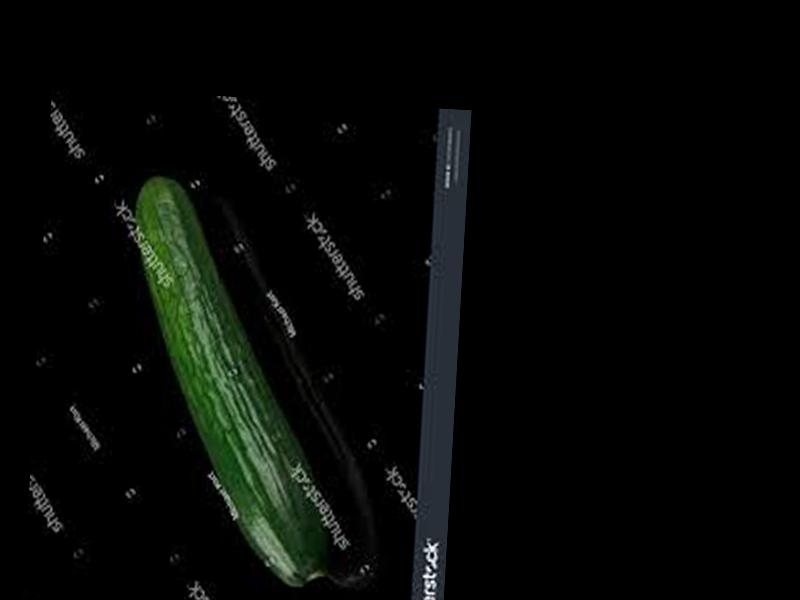Cucumber: (113, 172, 354, 588)
